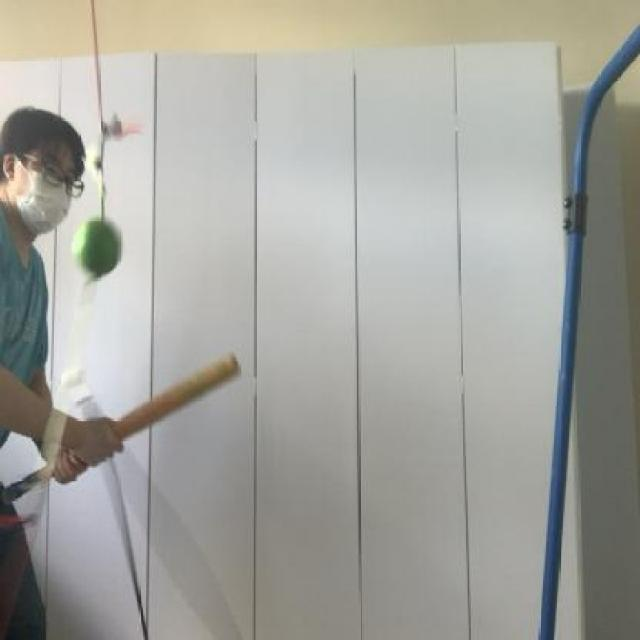baseball: (66, 212, 129, 282)
